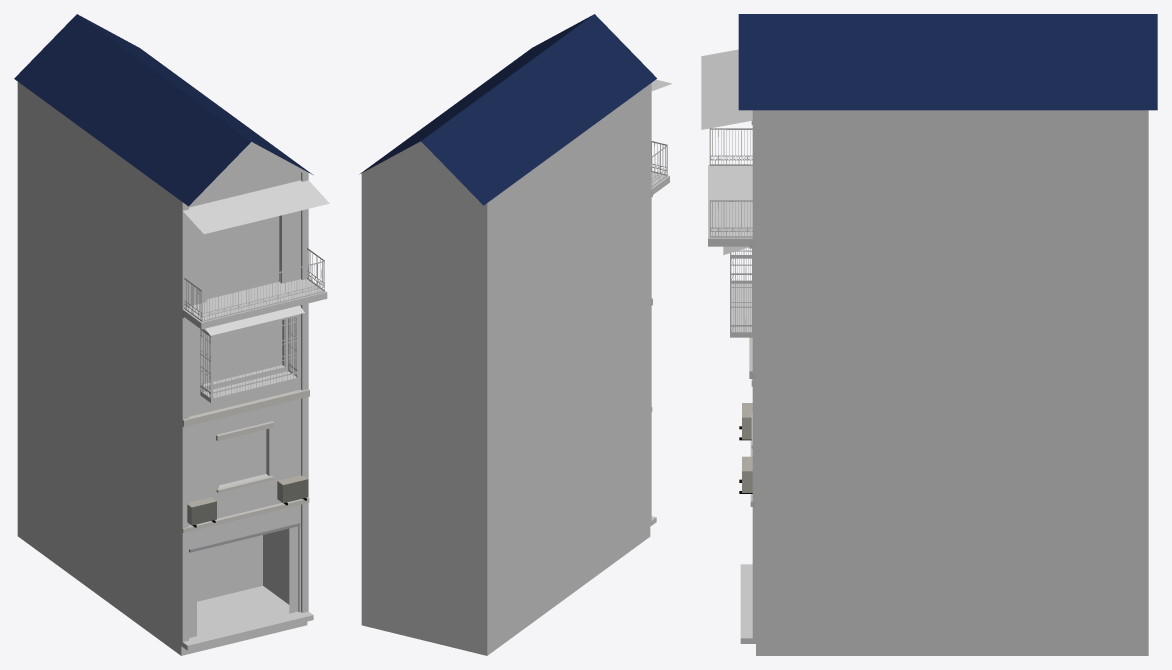
3 views of the same model, side by side, from view 1: azimuth 30°, elevation 25°; view 2: azimuth 150°, elevation 25°; view 3: azimuth 270°, elevation 25° (orthographic). The views are drawn at different scales.
Visible parts, largest first — view 1: TH_D09_C_01_LOD0; view 2: TH_D09_C_01_LOD0; view 3: TH_D09_C_01_LOD0.
Boxes of the visible parts, left/top/right/bottom form: TH_D09_C_01_LOD0: left=14, top=14, right=329, bottom=655; TH_D09_C_01_LOD0: left=359, top=14, right=671, bottom=655; TH_D09_C_01_LOD0: left=701, top=14, right=1157, bottom=655.
Size of what is drawn, in the model's own units: 4 by 15.3 by 10.45.
